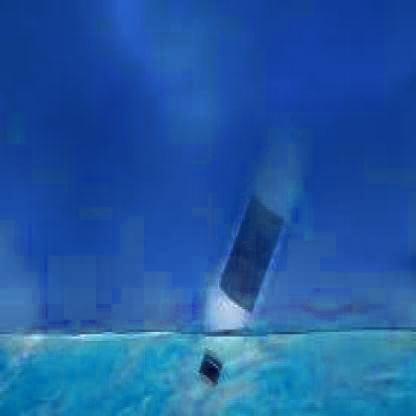pbottle: (189, 116, 313, 395)
